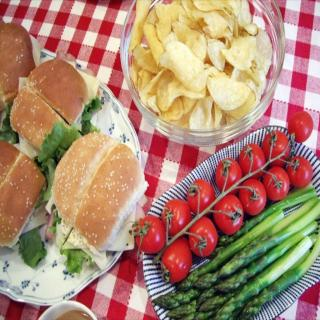tomato: (130, 215, 164, 262), (161, 237, 191, 285), (261, 123, 290, 167), (214, 192, 242, 232), (280, 155, 312, 189), (191, 225, 220, 260), (262, 163, 290, 199), (186, 179, 214, 214), (163, 198, 190, 234), (238, 144, 264, 181), (216, 157, 241, 194), (286, 109, 312, 144)
